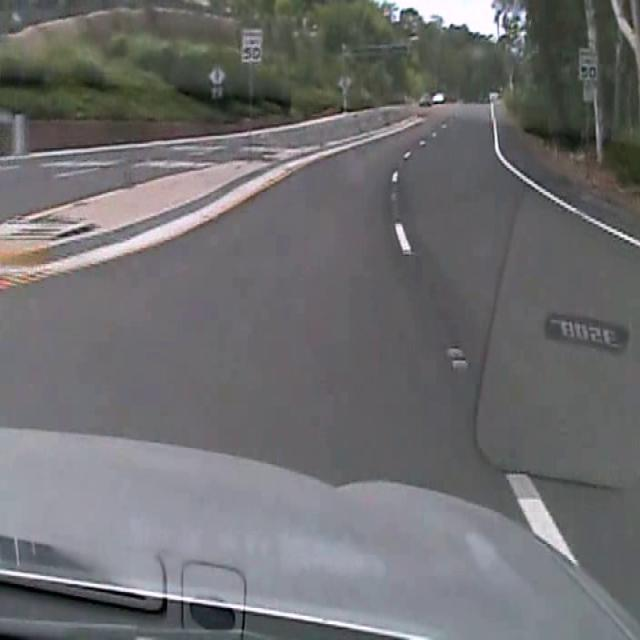speedLimit50: (240, 25, 262, 64), (577, 46, 599, 84)
